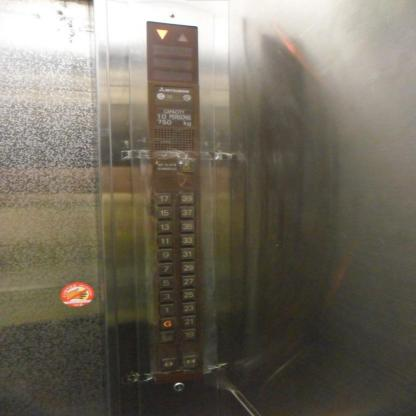1: (157, 303, 176, 317)
11: (155, 234, 174, 248)
13: (155, 220, 173, 234)
15: (155, 206, 173, 220)
17: (153, 191, 173, 205)
19: (179, 327, 197, 342)
21: (179, 314, 197, 328)
23: (178, 300, 196, 314)
25: (178, 288, 196, 302)
27: (178, 274, 196, 288)
29: (178, 260, 196, 274)
3: (156, 289, 175, 304)
31: (178, 247, 196, 261)
33: (178, 232, 196, 247)
35: (177, 218, 196, 233)
37: (177, 205, 196, 219)
39: (177, 190, 196, 204)
5: (156, 276, 174, 290)
7: (156, 261, 174, 276)
9: (156, 247, 174, 262)
G: (157, 317, 176, 331)
alarm: (177, 159, 196, 173)
blur: (157, 329, 176, 343)
close: (181, 354, 199, 368)
keyhole: (171, 382, 185, 392)
led: (143, 19, 200, 85)
open: (159, 356, 177, 370)
